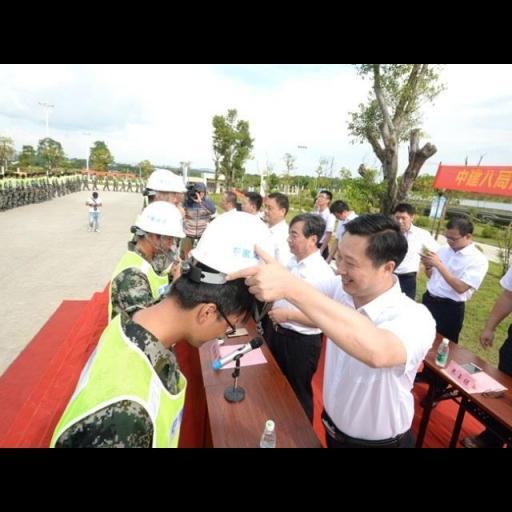Person: (50, 260, 256, 460), (291, 210, 455, 440), (110, 199, 192, 319), (269, 205, 346, 301)
helmet: (190, 210, 288, 284), (132, 198, 191, 248), (138, 163, 194, 194)
vest: (61, 308, 185, 447), (100, 242, 176, 318)
